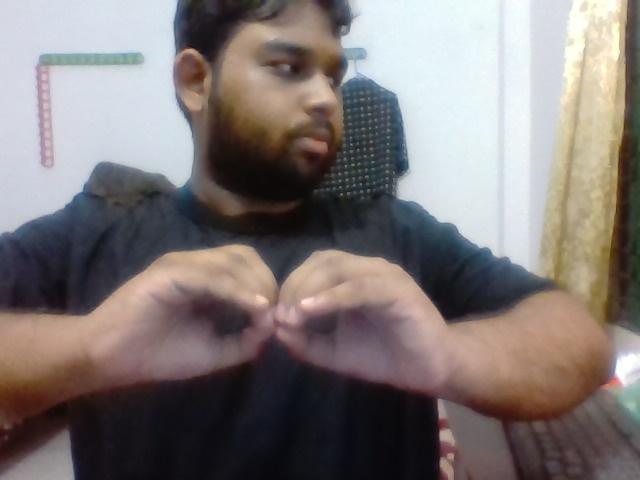B: (94, 234, 466, 416)
